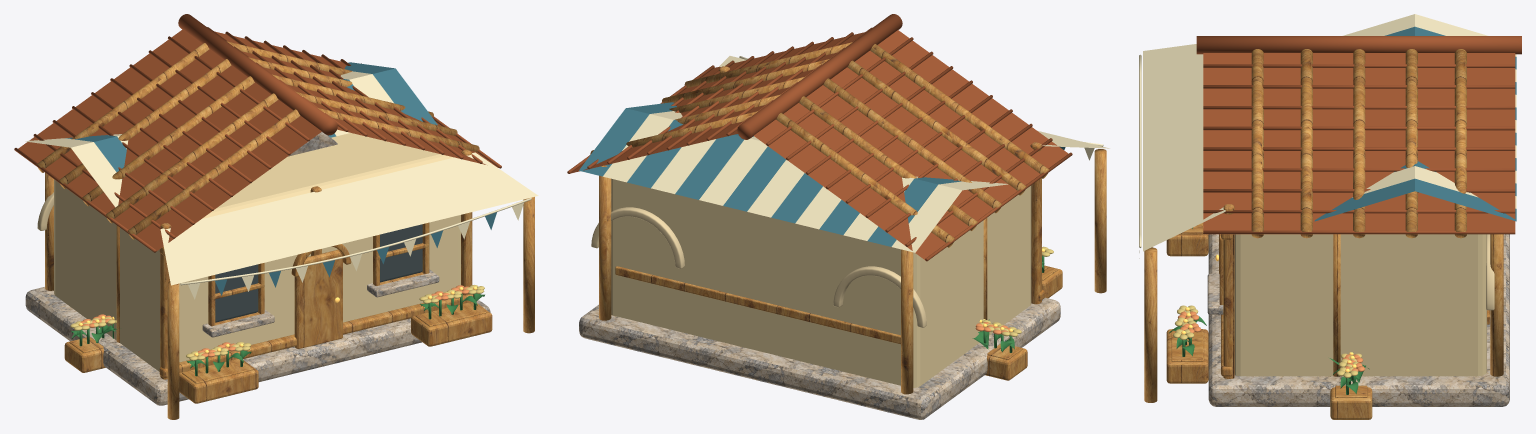
Rendered from dino-circuit-venues-v1.glb.
3 renders of one model, left to right at view 1: azimuth 30°, elevation 25°; view 2: azimuth 150°, elevation 25°; view 3: azimuth 270°, elevation 25°, orthographic. The views are drawn at different scales.
Parts seen in each view (by area): view 1: clubhouse_TealTiles, clubhouse_CreamPlaster, clubhouse_CanopyIvory, clubhouse_DarkTimber, clubhouse_OakGrain, clubhouse_WeatheredStone, clubhouse_DarkGlass, grandstand_CanopyIvory, grandstand_WorldAccent, grandstand_OakGrain, clubhouse_SoftLeaf, clubhouse_FlowerPink (+1 smaller); view 2: clubhouse_CreamPlaster, clubhouse_TealTiles, clubhouse_DarkTimber, clubhouse_WeatheredStone, grandstand_WorldAccent, grandstand_CanopyIvory, grandstand_OakGrain, clubhouse_FossilBone, clubhouse_OakGrain, clubhouse_CanopyIvory; view 3: clubhouse_TealTiles, clubhouse_CreamPlaster, clubhouse_DarkTimber, clubhouse_CanopyIvory, clubhouse_WeatheredStone, clubhouse_OakGrain, grandstand_OakGrain, grandstand_WorldAccent, grandstand_CanopyIvory, clubhouse_FossilBone, clubhouse_FlowerPink, clubhouse_SoftLeaf.
Part boxes in pixels (box(x1,y1,x2,y2)): clubhouse_TealTiles: box(14, 14, 501, 252); clubhouse_CreamPlaster: box(54, 133, 460, 371); clubhouse_CanopyIvory: box(160, 152, 538, 299); clubhouse_DarkTimber: box(36, 41, 487, 383); clubhouse_OakGrain: box(167, 197, 534, 419); clubhouse_WeatheredStone: box(25, 269, 490, 405); clubhouse_DarkGlass: box(215, 224, 422, 322); grandstand_CanopyIvory: box(25, 71, 393, 207); grandstand_WorldAccent: box(65, 62, 437, 179); grandstand_OakGrain: box(45, 173, 119, 372); clubhouse_SoftLeaf: box(98, 293, 484, 376); clubhouse_FlowerPink: box(186, 285, 484, 360); clubhouse_CreamPlaster: box(611, 178, 1031, 387); clubhouse_TealTiles: box(567, 14, 1072, 261); clubhouse_DarkTimber: box(590, 42, 1057, 304); clubhouse_WeatheredStone: box(579, 297, 1060, 419); grandstand_WorldAccent: box(579, 102, 961, 246); grandstand_CanopyIvory: box(603, 111, 1007, 252); grandstand_OakGrain: box(599, 165, 1027, 394); clubhouse_FossilBone: box(591, 207, 926, 327); clubhouse_OakGrain: box(1042, 149, 1106, 298); clubhouse_CanopyIvory: box(719, 56, 1109, 160); clubhouse_TealTiles: box(1196, 36, 1521, 234); clubhouse_CreamPlaster: box(1234, 234, 1486, 376); clubhouse_DarkTimber: box(1171, 49, 1466, 378); clubhouse_CanopyIvory: box(1139, 44, 1225, 258); clubhouse_WeatheredStone: box(1207, 234, 1509, 406); clubhouse_OakGrain: box(1144, 234, 1223, 402); grandstand_OakGrain: box(1330, 234, 1503, 419); grandstand_WorldAccent: box(1314, 26, 1516, 221); grandstand_CanopyIvory: box(1343, 14, 1516, 208); clubhouse_FossilBone: box(1486, 234, 1494, 310); clubhouse_FlowerPink: box(1173, 305, 1198, 340); clubhouse_SoftLeaf: box(1169, 227, 1365, 382).
Bounding box in the file's own units: 7.54 × 4.74 × 5.84.
14 materials, 3 textured.
